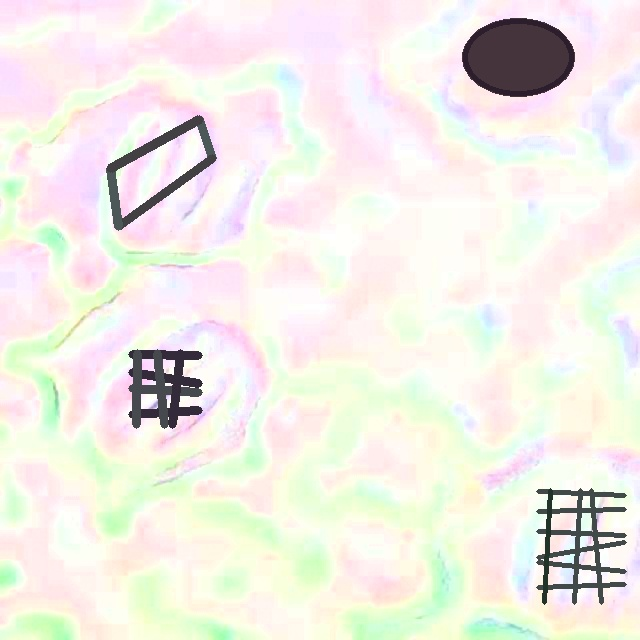close: (537, 488, 626, 603), (463, 18, 574, 96)
open: (106, 115, 216, 230), (128, 349, 202, 428)
